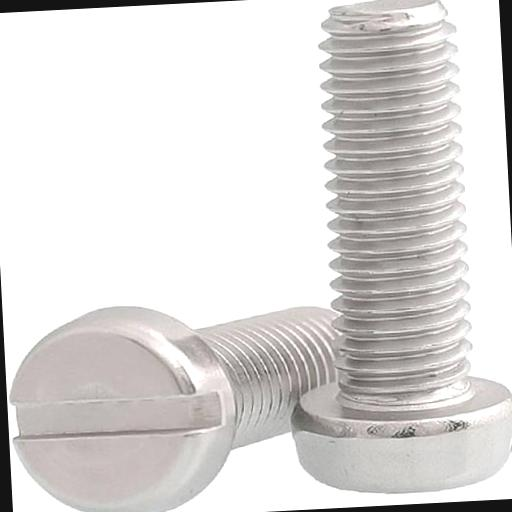Slotted: (7, 299, 236, 512)
